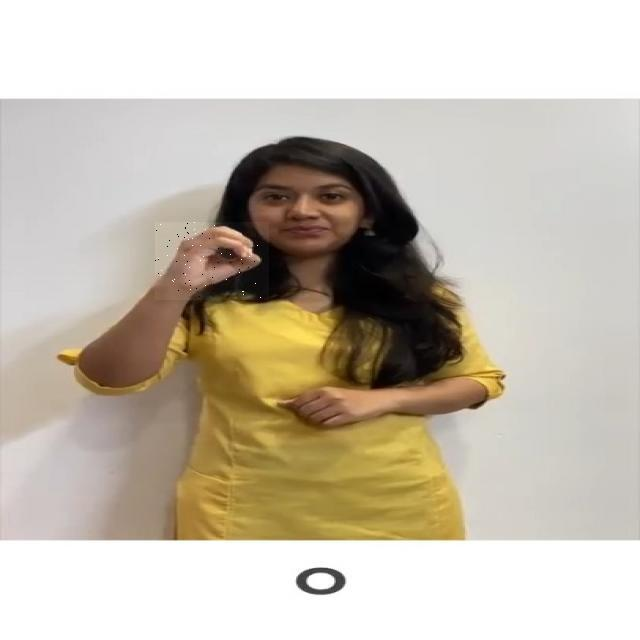O: (155, 222, 269, 300)
